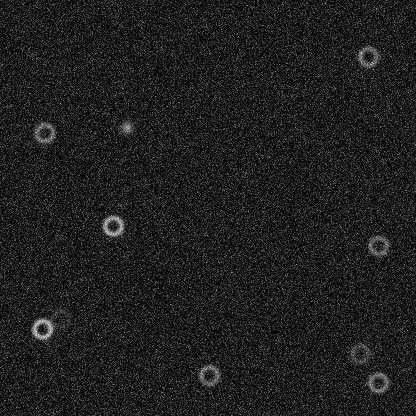Ring: (100, 213, 124, 237), (197, 363, 221, 387), (48, 306, 72, 330), (32, 120, 56, 144), (366, 370, 390, 394), (348, 341, 372, 365), (30, 316, 54, 340), (366, 233, 390, 257), (356, 44, 380, 68)
Spot: (118, 119, 134, 135)
